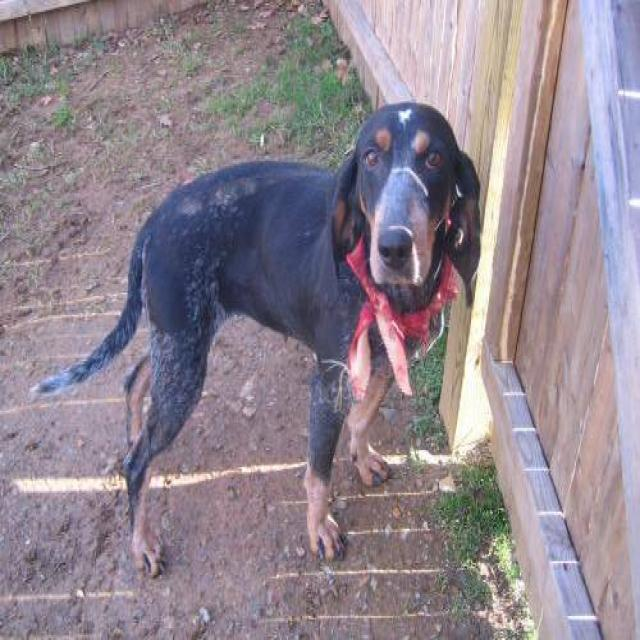dog: (28, 100, 481, 578)
